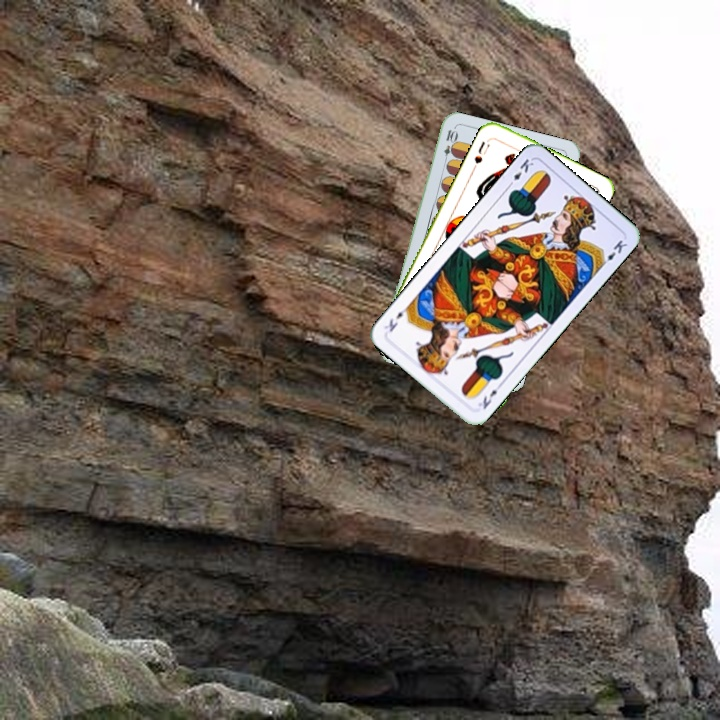E10: (439, 126, 458, 166)
EK: (504, 154, 536, 190), (474, 379, 505, 412)
SU: (469, 134, 494, 172)
